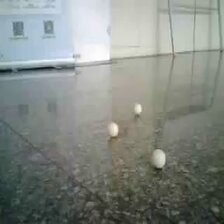w: (149, 148, 167, 169), (106, 122, 120, 138), (134, 103, 143, 115)
